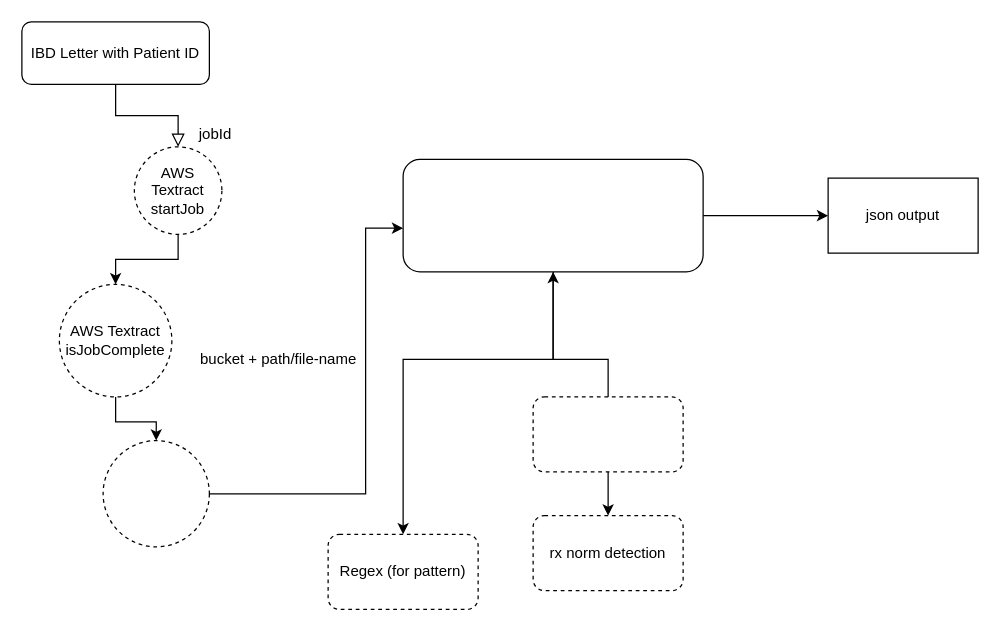
Some shapes in this 1000 by 631 pixel diagram are drawn without their labels. Each missing label, with the centre of its shape:
"AWS Comprehend Medical detected entities" belongs at (607,434).
"AWS Textract getJobResults" belongs at (155,493).
"process_file" belongs at (552,215).
